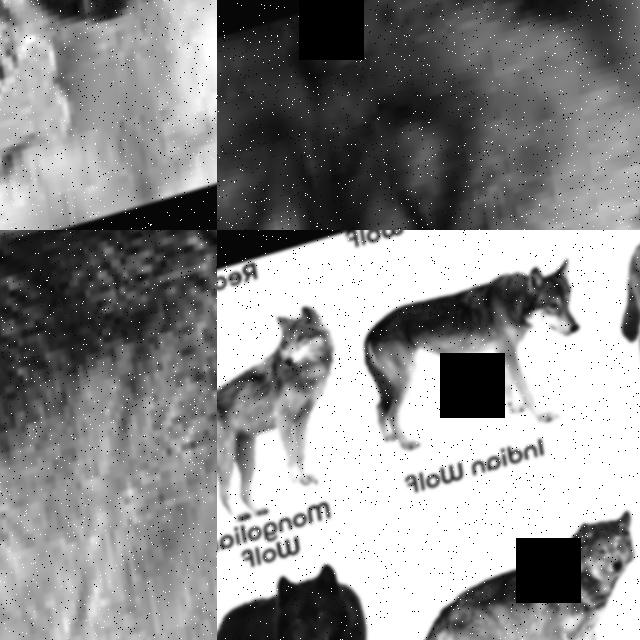dog: (217, 0, 640, 230), (0, 0, 217, 230)
wolf: (0, 230, 217, 640), (325, 240, 615, 482), (217, 267, 404, 552), (351, 480, 640, 640), (217, 523, 453, 640), (571, 230, 640, 408)
